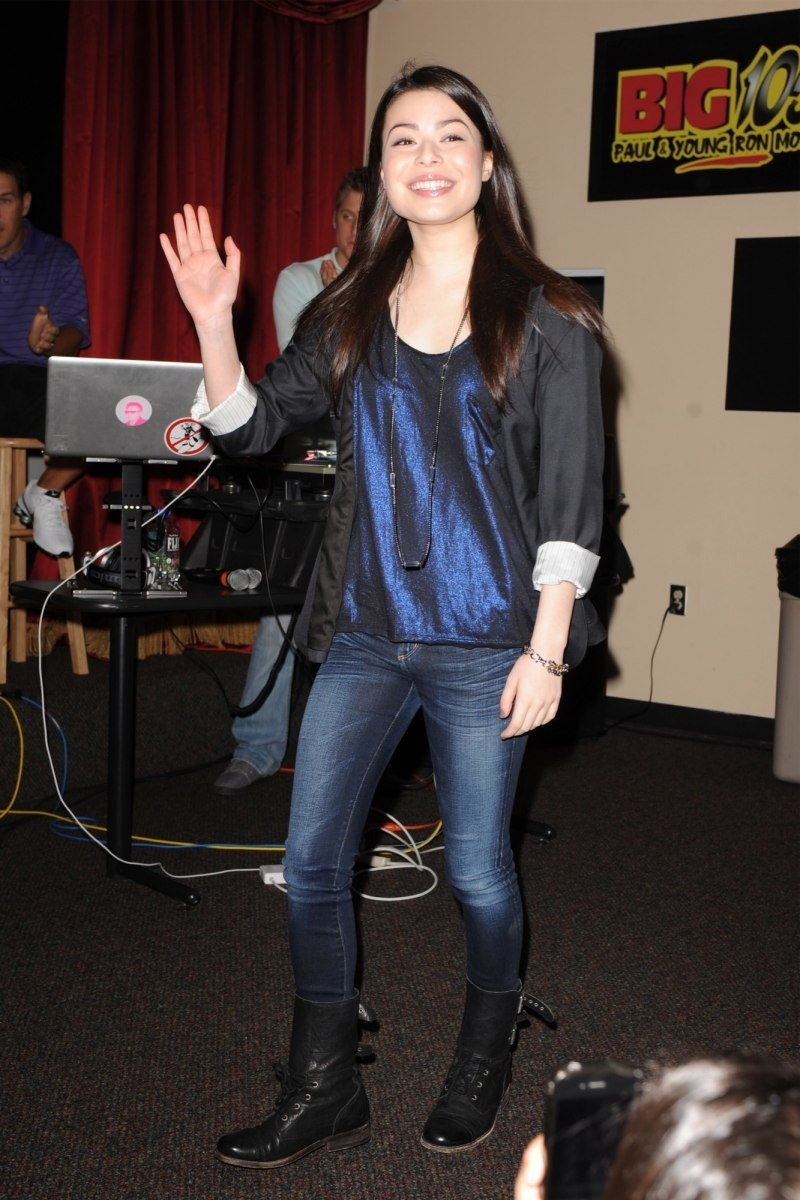face_no_mask: (368, 65, 507, 225), (2, 169, 47, 259), (328, 174, 370, 259)
